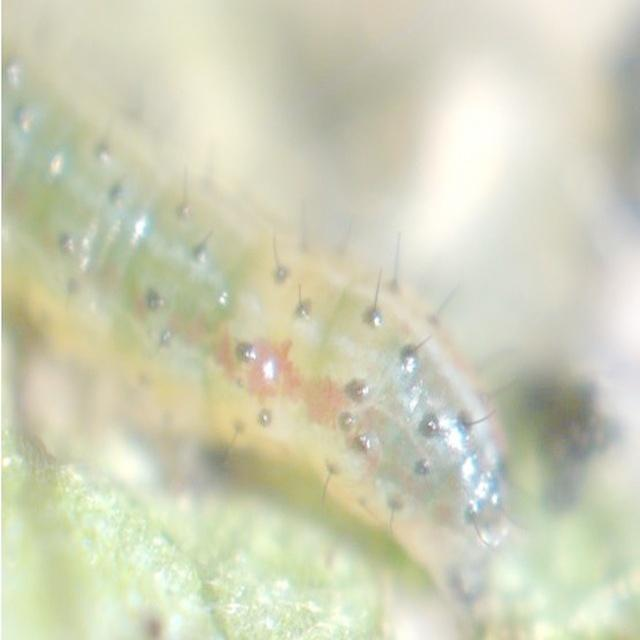gusano_cogollero: (0, 43, 520, 551)
